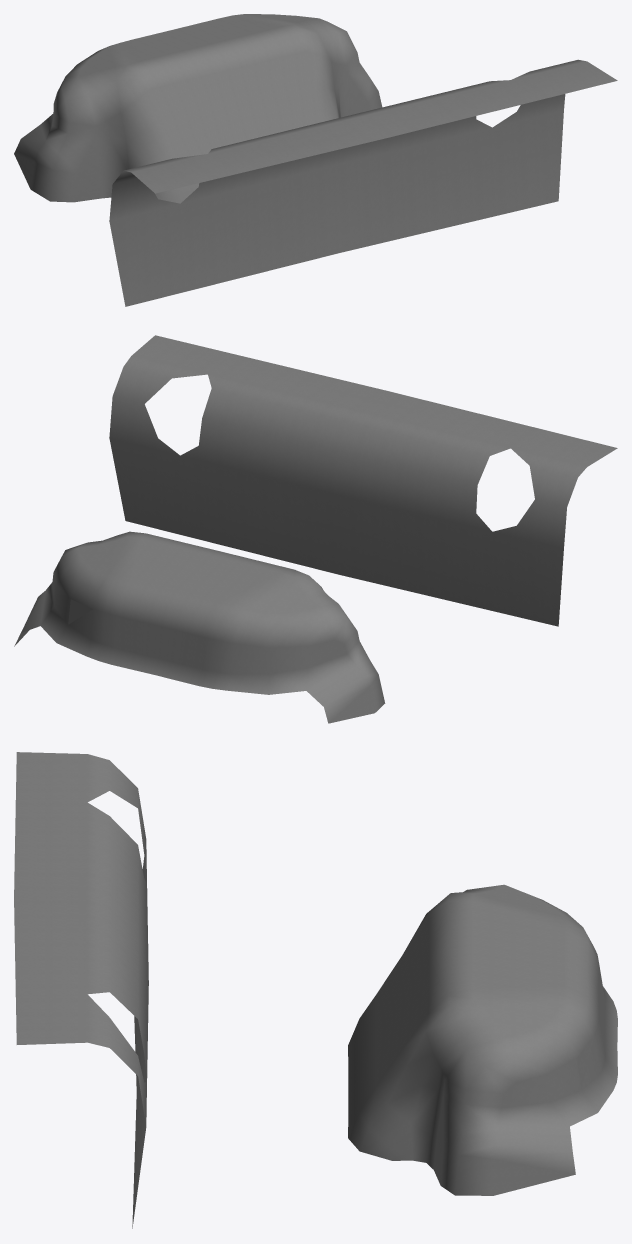
The model's file is Grille3.obj.
3 views of the same model, one above another, from view 1: azimuth 30°, elevation 25°; view 2: azimuth 150°, elevation 25°; view 3: azimuth 270°, elevation 25° (orthographic). The views are drawn at different scales.
Visible parts, largest first — view 1: p:Kit1_Grille3_Geo_lodA_Kit1_Grille3_Geo_lodA_Porsche_918SpyderR; view 2: p:Kit1_Grille3_Geo_lodA_Kit1_Grille3_Geo_lodA_Porsche_918SpyderR; view 3: p:Kit1_Grille3_Geo_lodA_Kit1_Grille3_Geo_lodA_Porsche_918SpyderR.
Part boxes in pixels (x1,y1,x2,y2): p:Kit1_Grille3_Geo_lodA_Kit1_Grille3_Geo_lodA_Porsche_918SpyderR: [14, 14, 617, 306]; p:Kit1_Grille3_Geo_lodA_Kit1_Grille3_Geo_lodA_Porsche_918SpyderR: [14, 335, 617, 723]; p:Kit1_Grille3_Geo_lodA_Kit1_Grille3_Geo_lodA_Porsche_918SpyderR: [14, 752, 617, 1228].
Size of the model in its own units: 0.00814 by 0.00252 by 0.00709.
